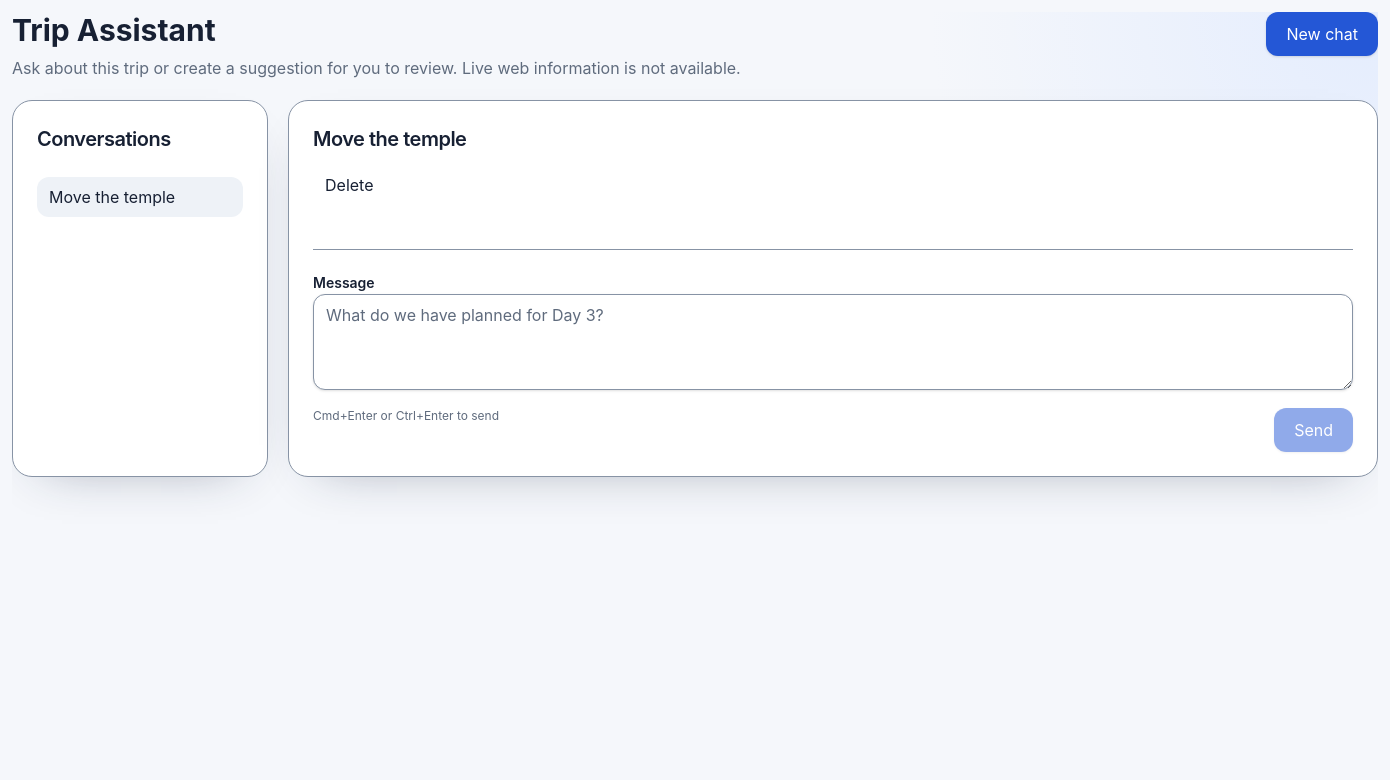
Test case: AssistantScreen › aborts streaming with Stop and leaves the composer usable
Type "Long answer" into the text box labelled "Message" at (833, 342), box left=313, top=294, right=1353, bottom=390
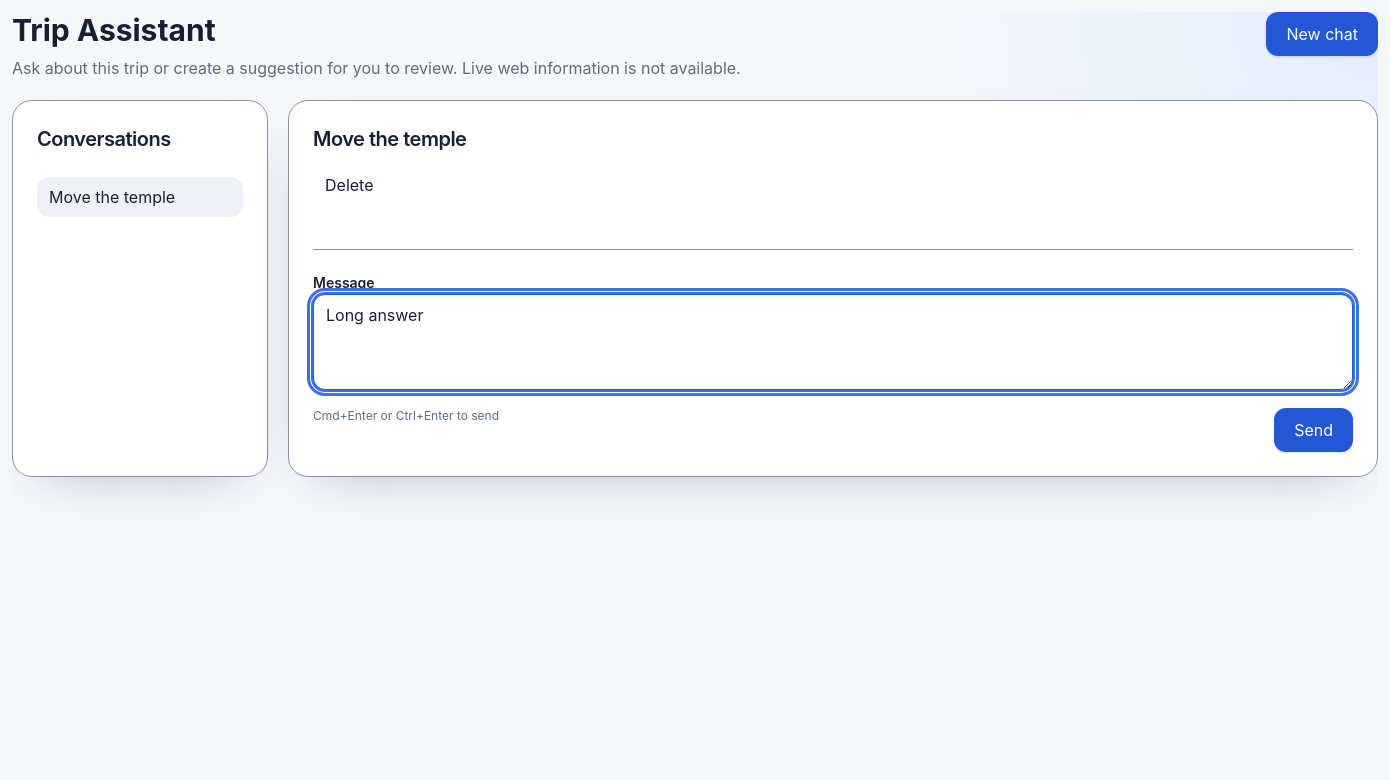
Click the button "Send" at (1314, 430), box left=1274, top=408, right=1353, bottom=452
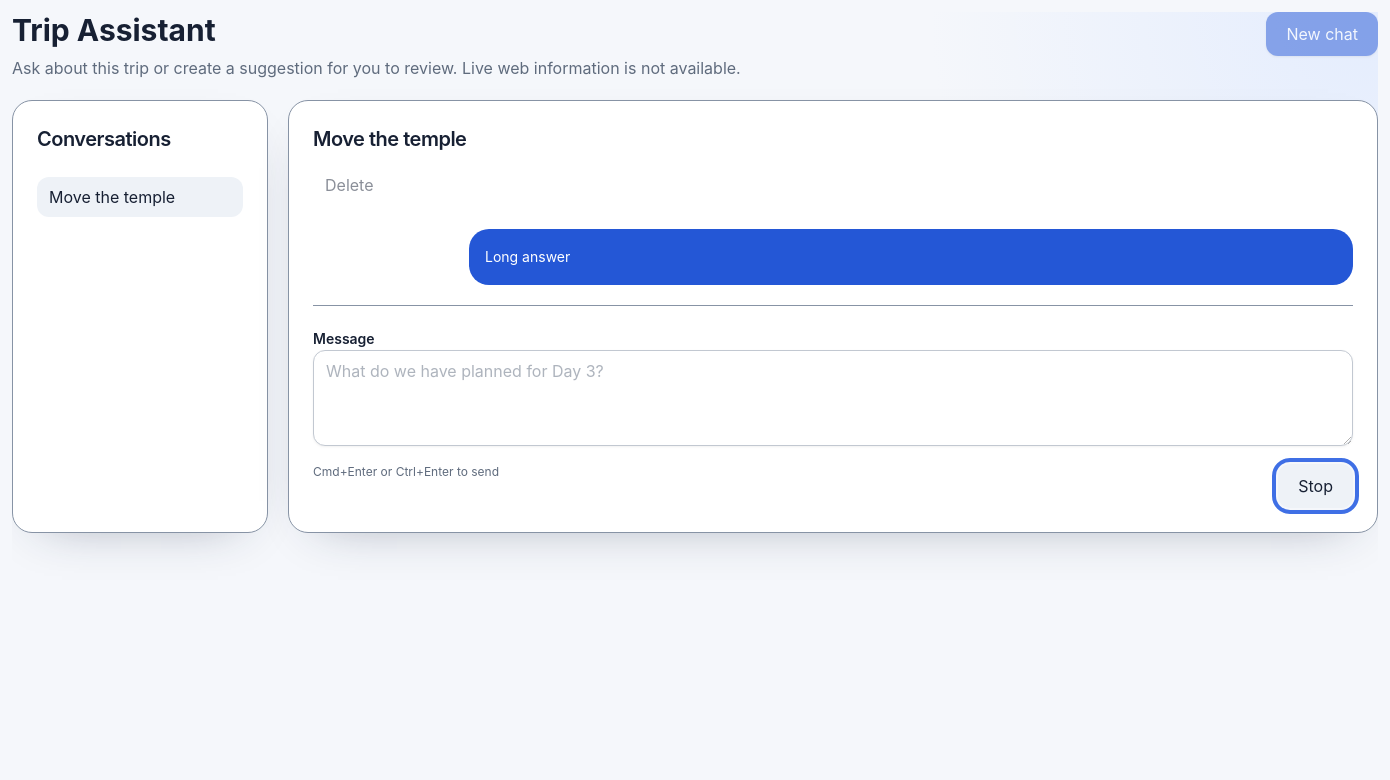
Click the button "Stop" at (1316, 486), box left=1278, top=464, right=1353, bottom=508
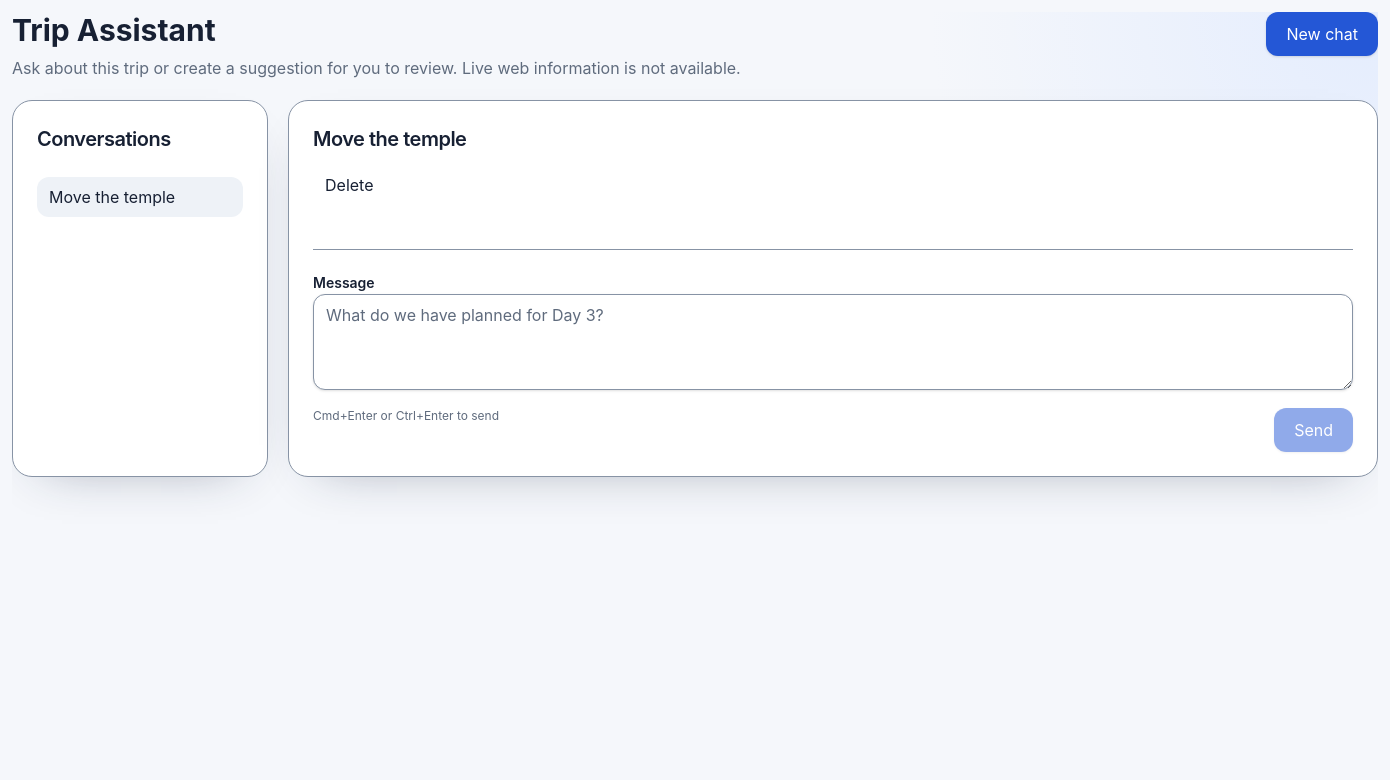
Check: the button "Send" is shown, box left=1274, top=408, right=1353, bottom=452
Check: the text box labelled "Message" is enabled, box left=313, top=294, right=1353, bottom=390
